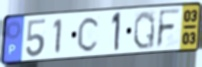1: (110, 11, 123, 54), (51, 18, 63, 55)
5: (25, 17, 48, 58)
C: (76, 15, 101, 54)
F: (155, 7, 183, 50)
Q: (132, 10, 157, 51)
